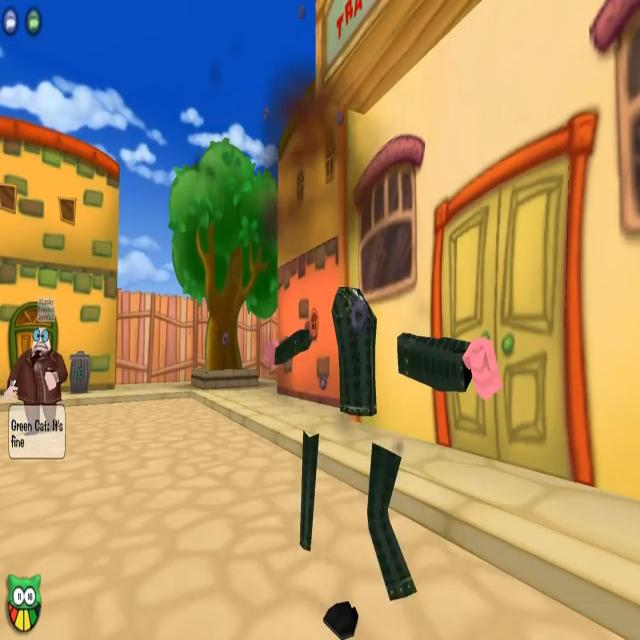flunky: (10, 306, 68, 459)
